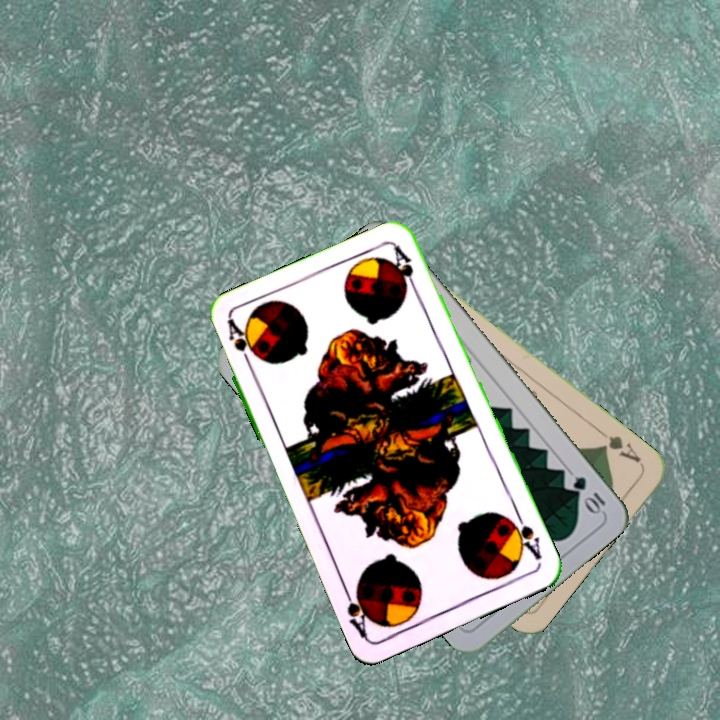G10: (568, 472, 608, 517)
GA: (594, 425, 644, 466)
SA: (503, 508, 545, 563), (224, 316, 260, 373)
